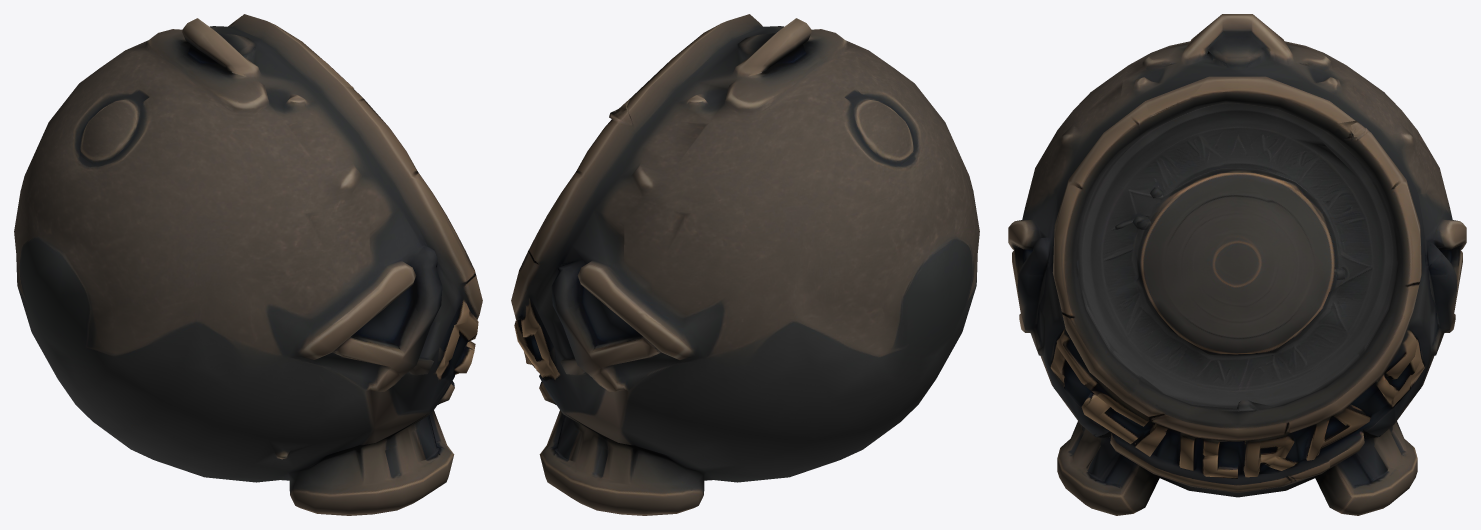
The model's file is gatewatch_signet.glb.
3 renders of one model, left to right at view 1: azimuth 30°, elevation 25°; view 2: azimuth 150°, elevation 25°; view 3: azimuth 270°, elevation 25°, orthographic. The views are drawn at different scales.
Parts seen in each view (by area): view 1: base_model_path; view 2: base_model_path; view 3: base_model_path.
Part boxes in pixels (bbox=[...]): base_model_path: bbox=[14, 14, 482, 515]; base_model_path: bbox=[511, 14, 979, 515]; base_model_path: bbox=[1008, 14, 1466, 515].
Size of the model in its own units: 0.9177 by 0.9999 by 0.9686.
1 material, 1 textured.
